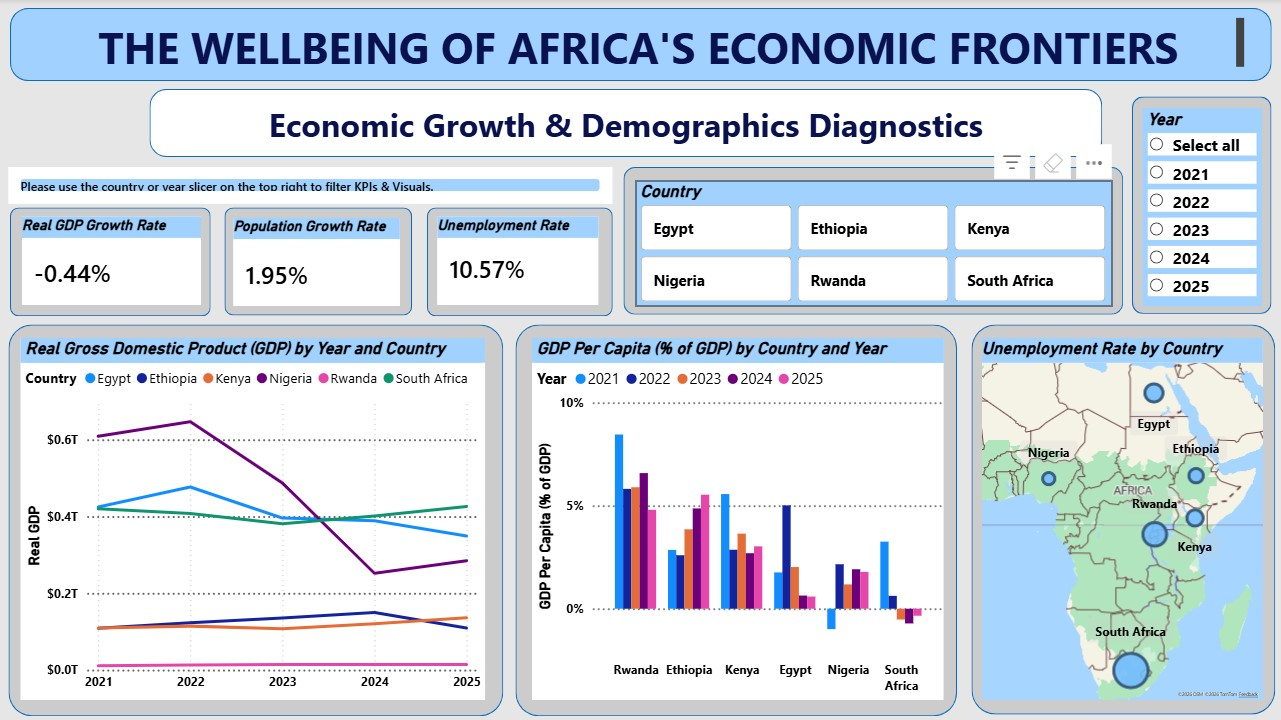

Layout of this report page (visuals, bound fields, positions):
{"tool":"powerbi","page":{"name":"Growth Diagnostics","canvas":[1280,720],"ordinal":0},"visuals":[{"type":"shape","box":[11.6,208,199.7,108.1],"z":0},{"type":"shape","box":[1127.6,97.4,138.7,216.3],"z":1000},{"type":"shape","box":[622.4,166.7,496.9,146.9],"z":2000},{"type":"shape","box":[11.6,8.3,1254.7,72.6],"z":3000},{"type":"textbox","box":[38,13.2,1206.8,62.7],"z":4000},{"type":"shape","box":[150.2,89.1,947.6,67.7],"z":5000},{"type":"textbox","box":[166.7,97.4,914.6,54.5],"z":6000},{"type":"advancedSlicerVisual","fields":{"Values":["Dim_Country.Country"]},"box":[634,179.9,473.8,125.5],"z":7000},{"type":"listSlicer","fields":{"Values":["Dim_Year.Year"]},"box":[1137.5,109,118.9,196.5],"z":8000},{"type":"shape","box":[9.9,323.6,492,389.6],"z":9000},{"type":"lineChart","title":"Real Gross Domestic Product (GDP) by Year and Country","fields":{"Category":["Dim_Year.Year"],"Series":["Dim_Country.Country"],"Y":["Fact_Macro.Real GDP"]},"box":[23.1,336.8,462.3,359.9],"z":10000},{"type":"shape","box":[515.1,323.6,439.1,389.6],"z":11000},{"type":"clusteredColumnChart","title":"GDP Per Capita (% of GDP) by Country and Year","fields":{"Category":["Fact_Macro.Country"],"Series":["Dim_Year.Year"],"Y":["Fact_Macro.GDP Per Capita"]},"box":[531.6,336.8,409.4,359.9],"z":12000},{"type":"cardVisual","title":"Real GDP Growth Rate","fields":{"Data":["Fact_Macro.GDP Growth KPI"]},"box":[23.3,216.3,178,88.2],"z":13000},{"type":"shape","box":[967.4,323.6,302.1,388],"z":14000},{"type":"azureMap","title":"Unemployment Rate by Country","fields":{"Category":["Fact_Macro.Country"],"Size":["Fact_Macro.Unemployment Rate (Snapshot)"]},"box":[979,336.8,279,359.9],"z":15000},{"type":"shape","box":[224.5,208,186.6,107.3],"z":16000},{"type":"shape","box":[425.9,208,184.7,108.1],"z":17000},{"type":"cardVisual","title":"Unemployment Rate","fields":{"Data":["Fact_Macro.Unemployment Rate (Snapshot)"]},"box":[437.6,216.3,159.7,88.2],"z":18000},{"type":"cardVisual","title":"Population Growth Rate","fields":{"Data":["Fact_Macro.Population Growth KPI"]},"box":[234.4,217.9,165.1,87.5],"z":19000},{"type":"cardVisual","fields":{"Data":["Fact_Macro.KPI Instruction Text"]},"box":[10,166.4,600.6,36.6],"z":20000}]}

Visuals, with their boxes in screenshot pixels (x1, y1, x2, y2), scaled from the page's 1280x720 canvas onto the 1281x720 screenshot:
shape: <bbox>12, 208, 211, 316</bbox>
shape: <bbox>1128, 97, 1267, 314</bbox>
shape: <bbox>623, 167, 1120, 314</bbox>
shape: <bbox>12, 8, 1267, 81</bbox>
textbox: <bbox>38, 13, 1246, 76</bbox>
shape: <bbox>150, 89, 1099, 157</bbox>
textbox: <bbox>167, 97, 1082, 152</bbox>
advancedSlicerVisual - Dim_Country.Country: <bbox>634, 180, 1109, 305</bbox>
listSlicer - Dim_Year.Year: <bbox>1138, 109, 1257, 306</bbox>
shape: <bbox>10, 324, 502, 713</bbox>
"Real Gross Domestic Product (GDP) by Year and Country" lineChart: <bbox>23, 337, 486, 697</bbox>
shape: <bbox>516, 324, 955, 713</bbox>
"GDP Per Capita (% of GDP) by Country and Year" clusteredColumnChart: <bbox>532, 337, 942, 697</bbox>
"Real GDP Growth Rate" cardVisual: <bbox>23, 216, 201, 304</bbox>
shape: <bbox>968, 324, 1270, 712</bbox>
"Unemployment Rate by Country" azureMap: <bbox>980, 337, 1259, 697</bbox>
shape: <bbox>225, 208, 411, 315</bbox>
shape: <bbox>426, 208, 611, 316</bbox>
"Unemployment Rate" cardVisual: <bbox>438, 216, 598, 304</bbox>
"Population Growth Rate" cardVisual: <bbox>235, 218, 400, 305</bbox>
cardVisual - Fact_Macro.KPI Instruction Text: <bbox>10, 166, 611, 203</bbox>
